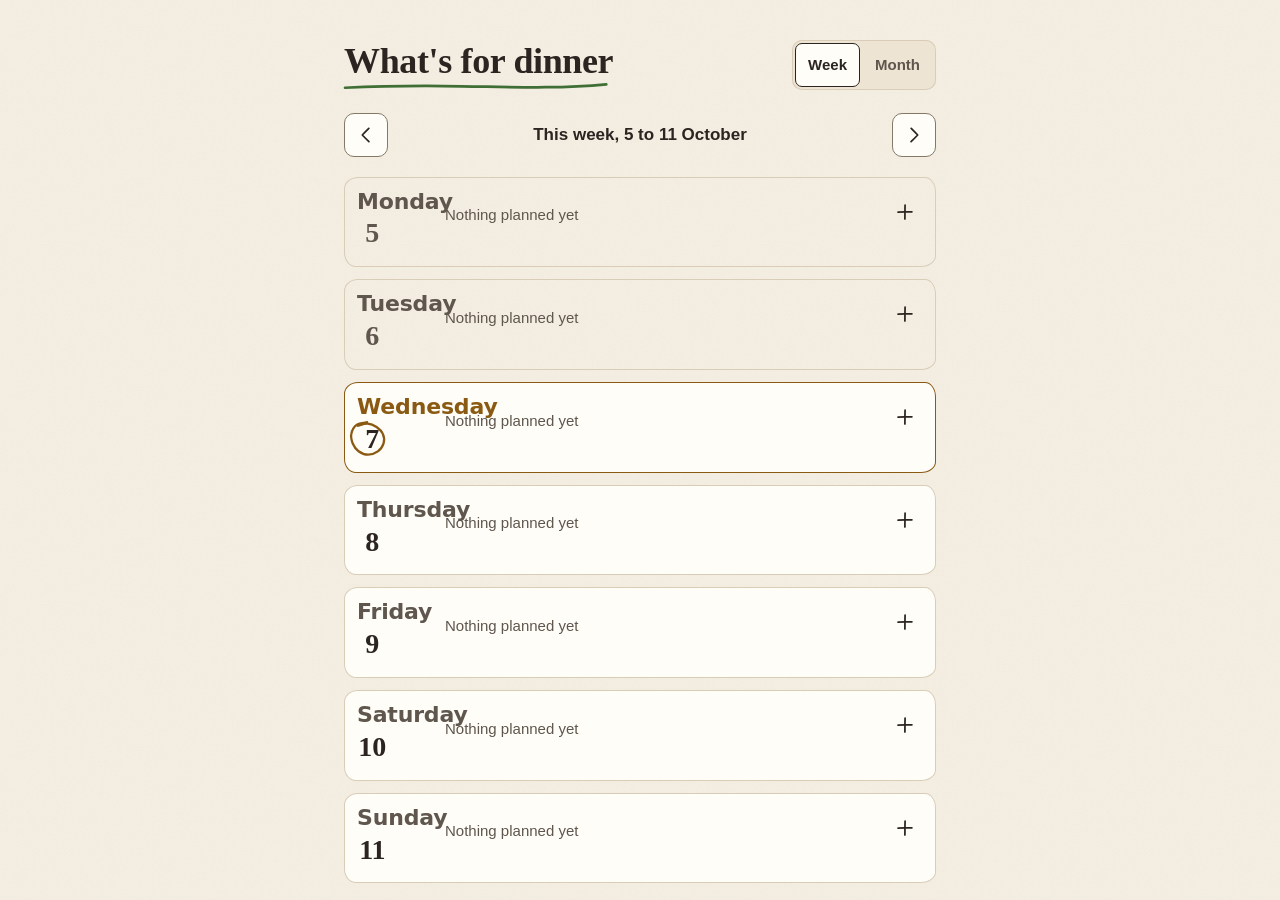
Test: WeekScreen › adds a meal from the best matches, dinners first
Step 1. Click the button named "Add a meal to Thursday 8 October" → (905, 520), box [883,498,927,542]
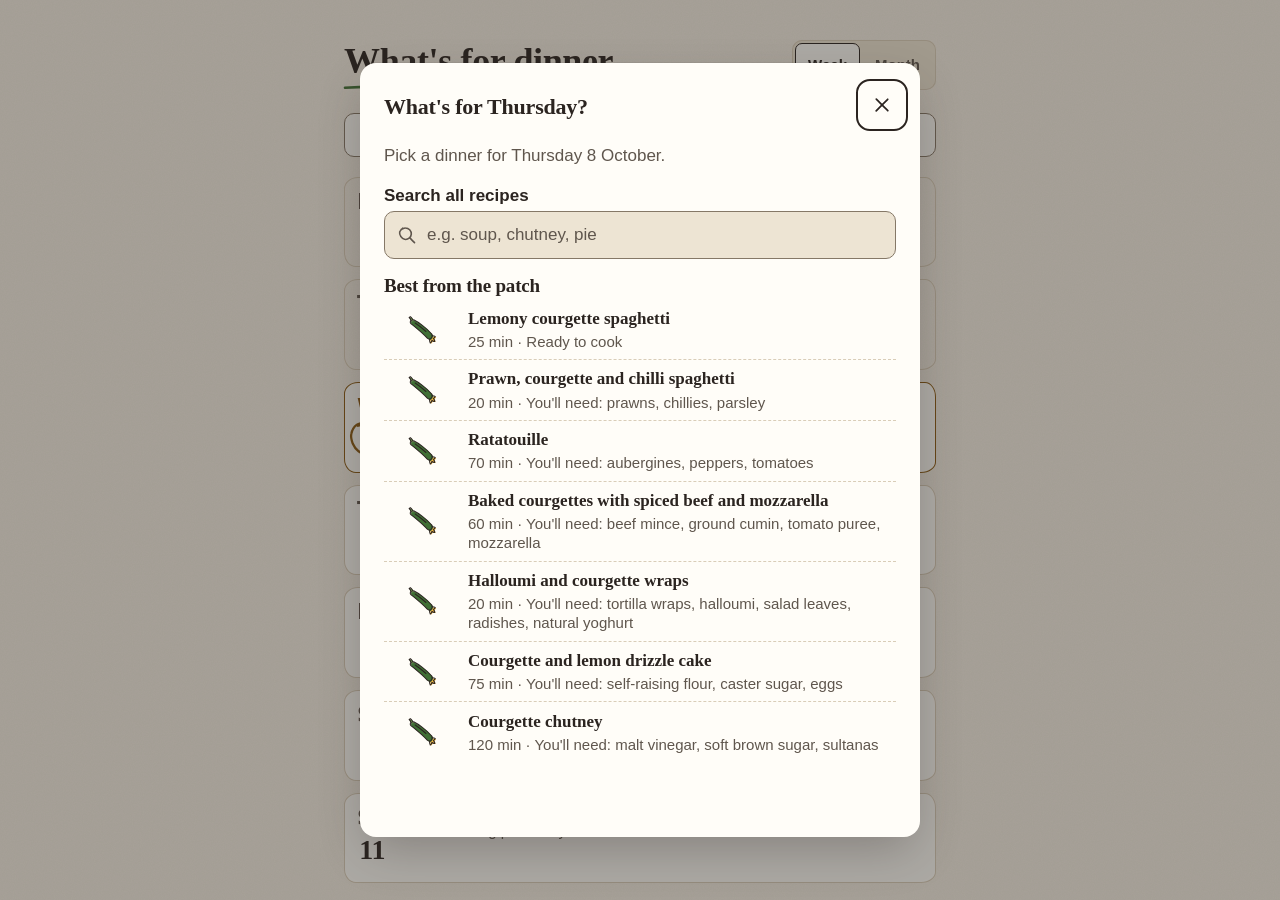
Step 2. Click the button "Ratatouille" → (640, 451), box [384,421,896,482]
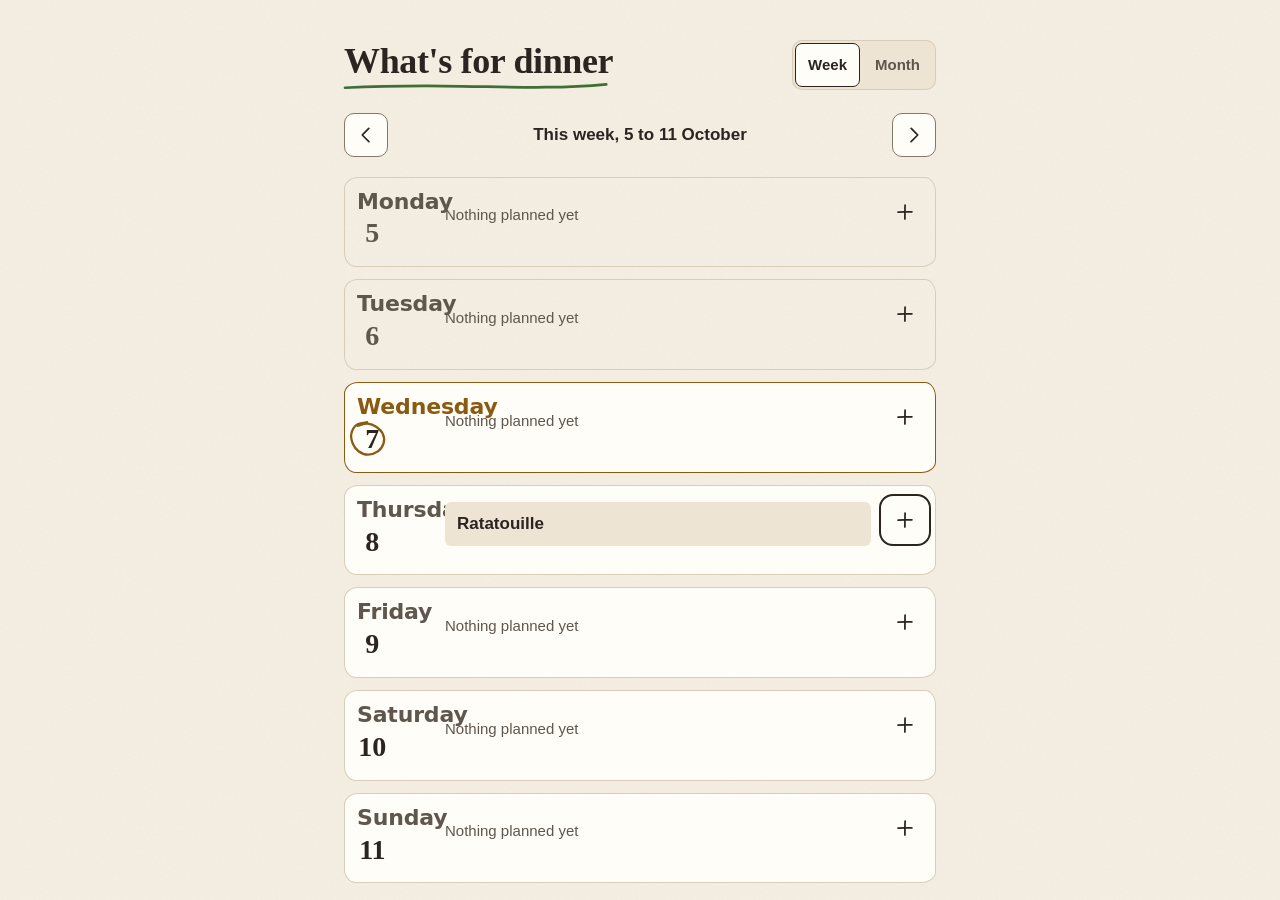
Check: the button "Ratatouille" is shown, box [445,502,871,546]
Check: the dialog is gone
